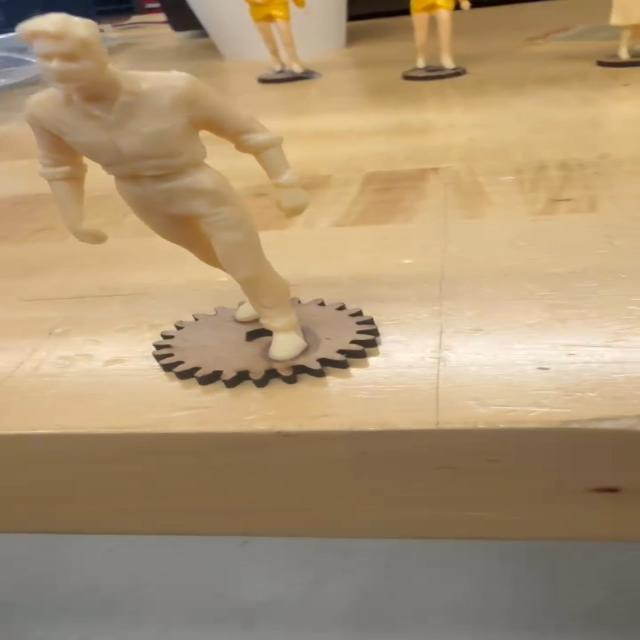Unauthorized: (13, 14, 334, 364)
